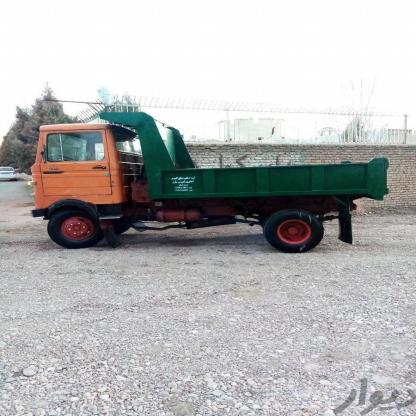Truck: (26, 113, 393, 249)
